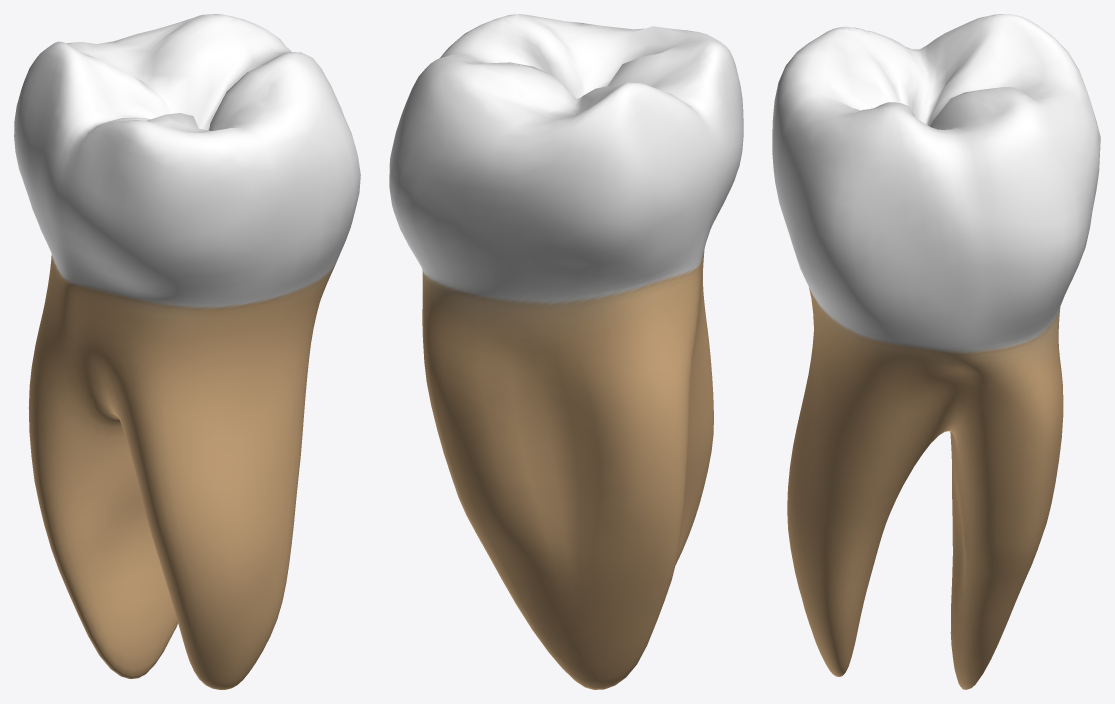
The picture shows the model from 3 angles, left to right: view 1: azimuth 30°, elevation 25°; view 2: azimuth 150°, elevation 25°; view 3: azimuth 270°, elevation 25°; orthographic projection. The views are drawn at different scales.
Visible parts, largest first — view 1: polySurface18 group4 dfhjghkljk; view 2: polySurface18 group4 dfhjghkljk; view 3: polySurface18 group4 dfhjghkljk.
Part boxes in pixels (x1,y1,x2,y2): polySurface18 group4 dfhjghkljk: (14,14,360,689); polySurface18 group4 dfhjghkljk: (389,14,743,689); polySurface18 group4 dfhjghkljk: (772,14,1100,689).
Bounding box in the file's own units: 2.72 × 5.74 × 2.64.
1 material, 1 textured.
